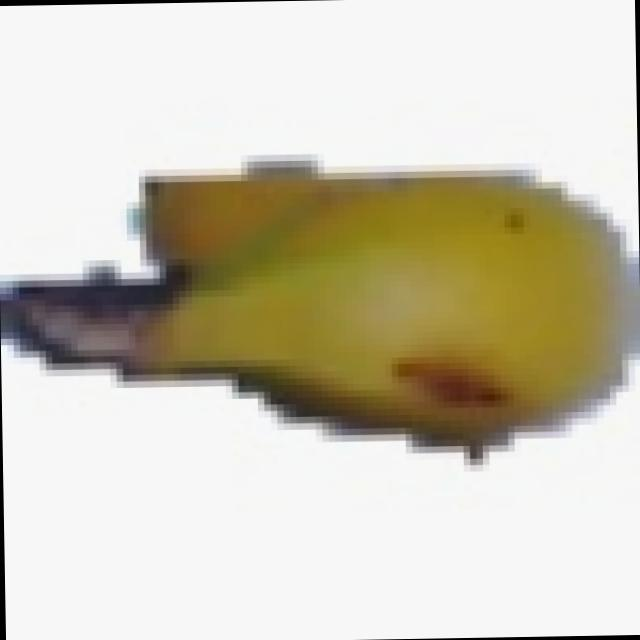banana_pacche: (0, 6, 635, 595)
